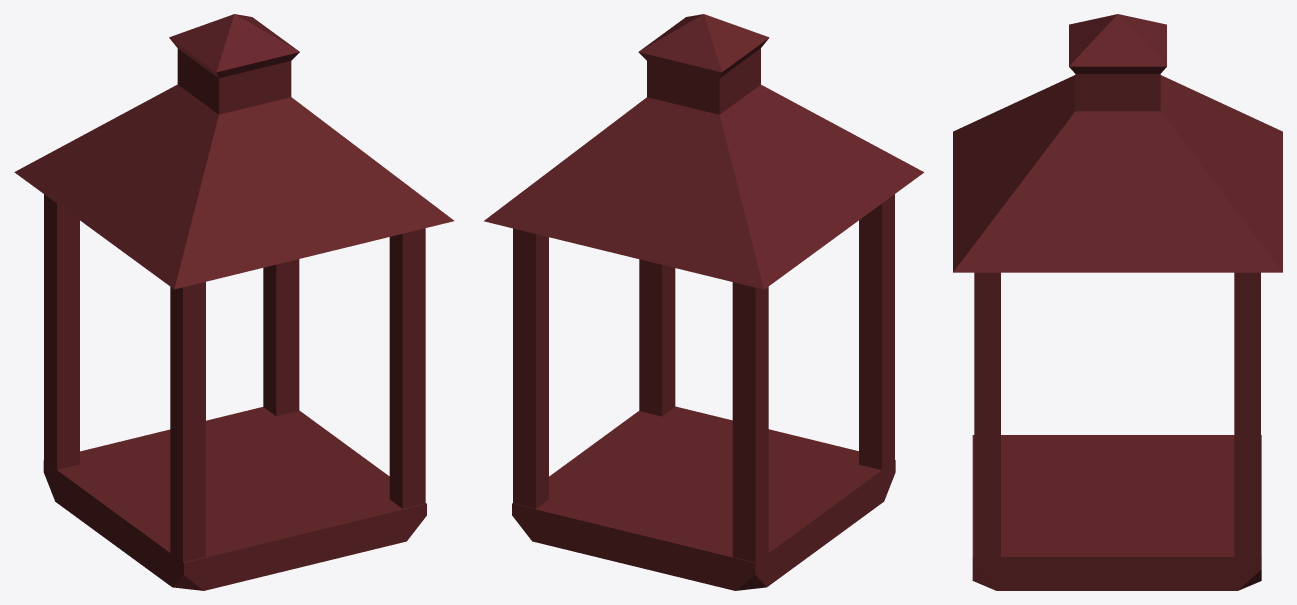
File: lantern.fbx
The picture shows the model from 3 angles, left to right: view 1: azimuth 30°, elevation 25°; view 2: azimuth 150°, elevation 25°; view 3: azimuth 270°, elevation 25°; orthographic projection. The views are drawn at different scales.
Parts seen in each view (by area): view 1: Cube.002; view 2: Cube.002; view 3: Cube.002.
Boxes of the visible parts, x1,y1,x2,y2 form: Cube.002: [14, 14, 454, 590]; Cube.002: [484, 14, 923, 590]; Cube.002: [953, 14, 1282, 590].
Bounding box in the file's own units: 43.58 × 74.34 × 43.11.
